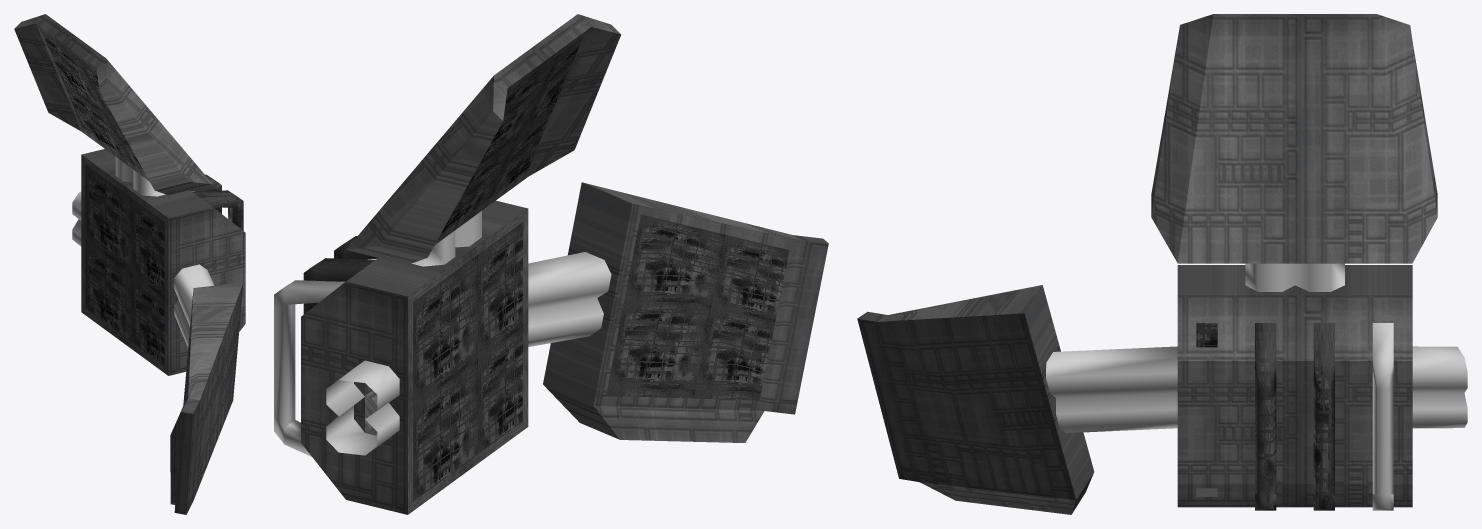
The model's file is Debris1.fbx.
3 views of the same model, side by side, from view 1: azimuth 30°, elevation 25°; view 2: azimuth 150°, elevation 25°; view 3: azimuth 270°, elevation 25° (orthographic). The views are drawn at different scales.
Visible parts, largest first — view 1: Debris1; view 2: Debris1; view 3: Debris1.
Part boxes in pixels (x1,y1,x2,y2): Debris1: (14, 14, 245, 514); Debris1: (274, 14, 828, 514); Debris1: (857, 14, 1467, 514).
Bounding box in the file's own units: 176 × 302 × 333.
